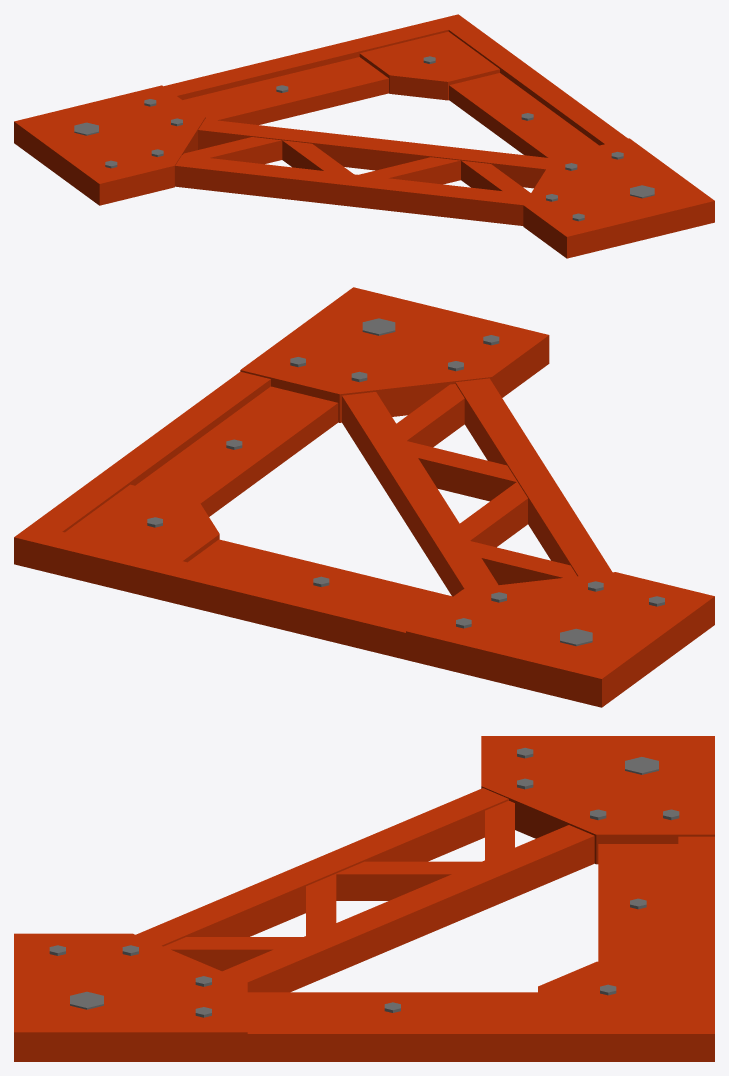
File: Prop_Industrial_Beams_Brace_Half_01.FBX
3 views of the same model, one above another, from view 1: azimuth 30°, elevation 25°; view 2: azimuth 150°, elevation 25°; view 3: azimuth 270°, elevation 25° (orthographic). The views are drawn at different scales.
Parts seen in each view (by area): view 1: Prop_Industrial_Beams_Brace_Half_01; view 2: Prop_Industrial_Beams_Brace_Half_01; view 3: Prop_Industrial_Beams_Brace_Half_01.
Boxes of the visible parts, x1,y1,x2,y2 form: Prop_Industrial_Beams_Brace_Half_01: (14, 14, 714, 258); Prop_Industrial_Beams_Brace_Half_01: (14, 287, 714, 707); Prop_Industrial_Beams_Brace_Half_01: (14, 736, 714, 1061).
Bounding box in the file's own units: 3000 × 154 × 3000.
